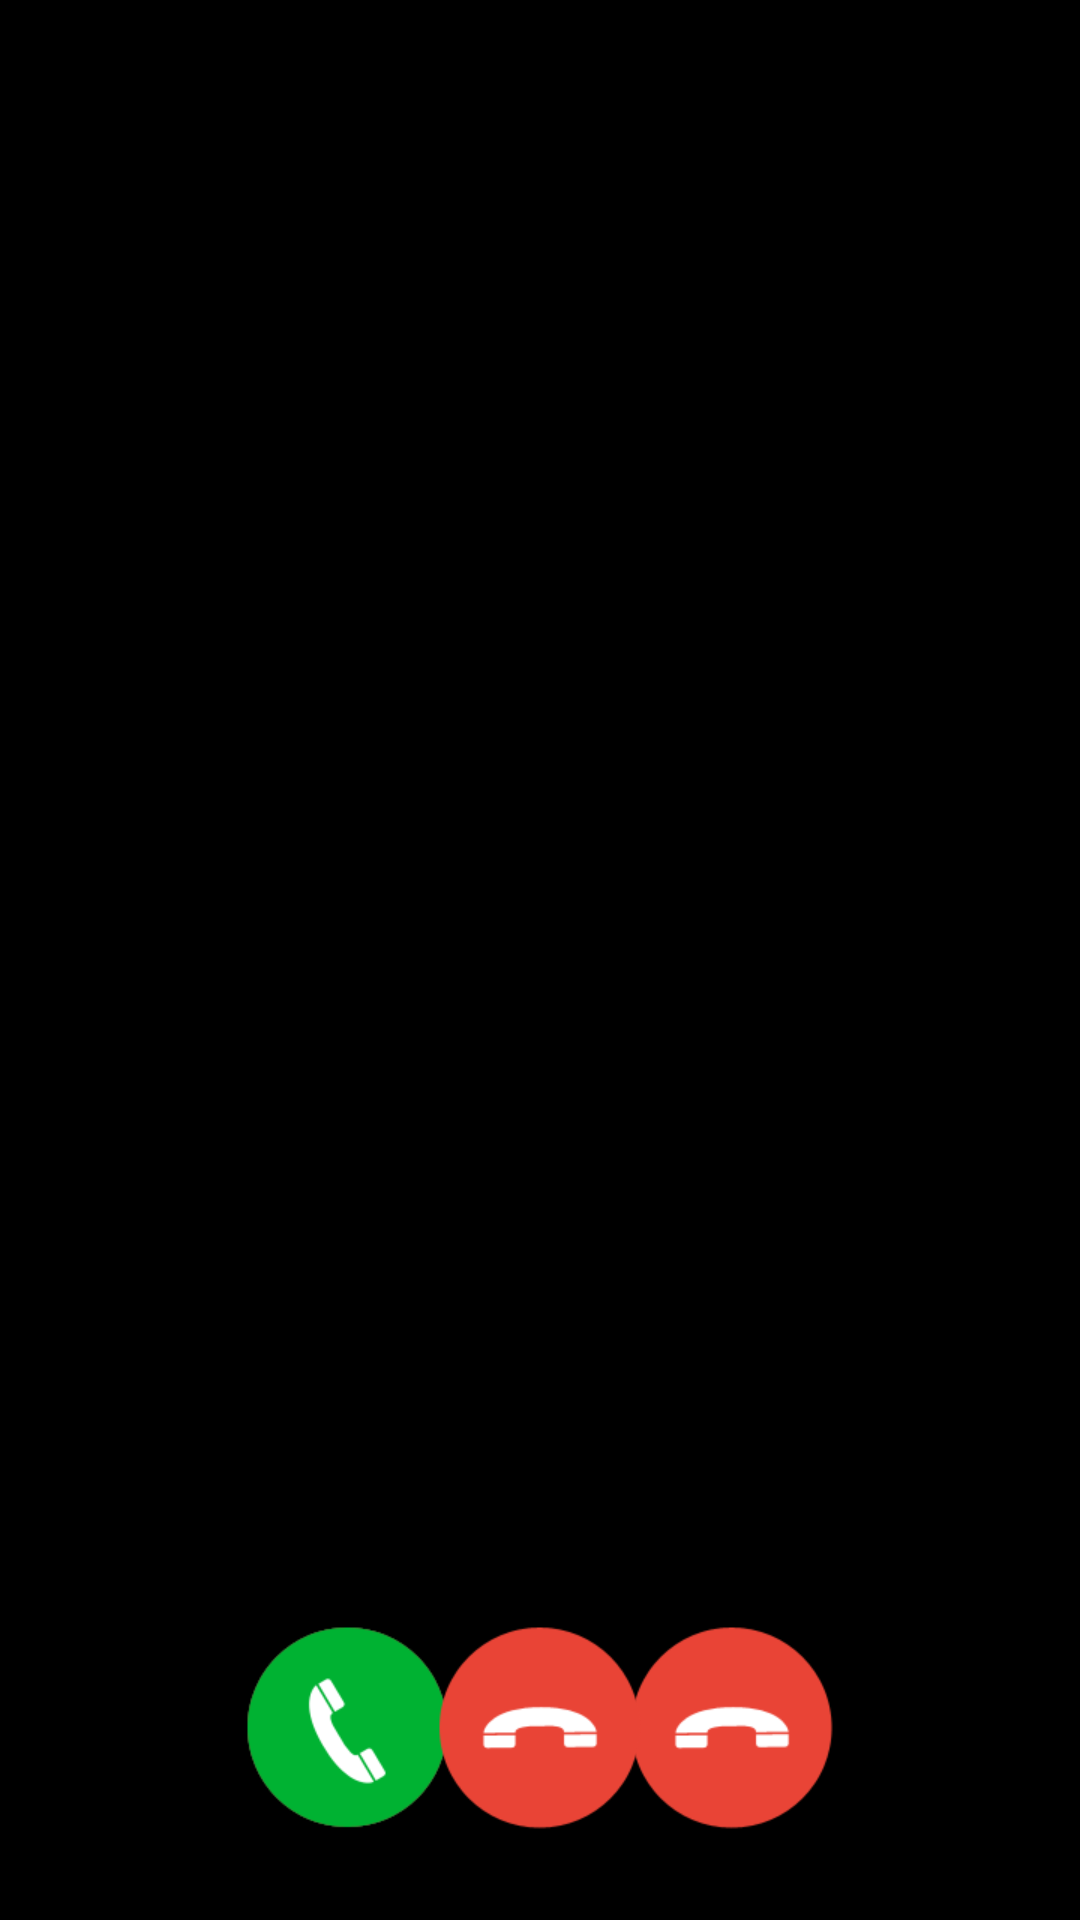

Icon click points for this 1080x1920 phone screenshot, format (x,y):
answer: (348,1727)
hangup: (540,1728), (731,1728)
